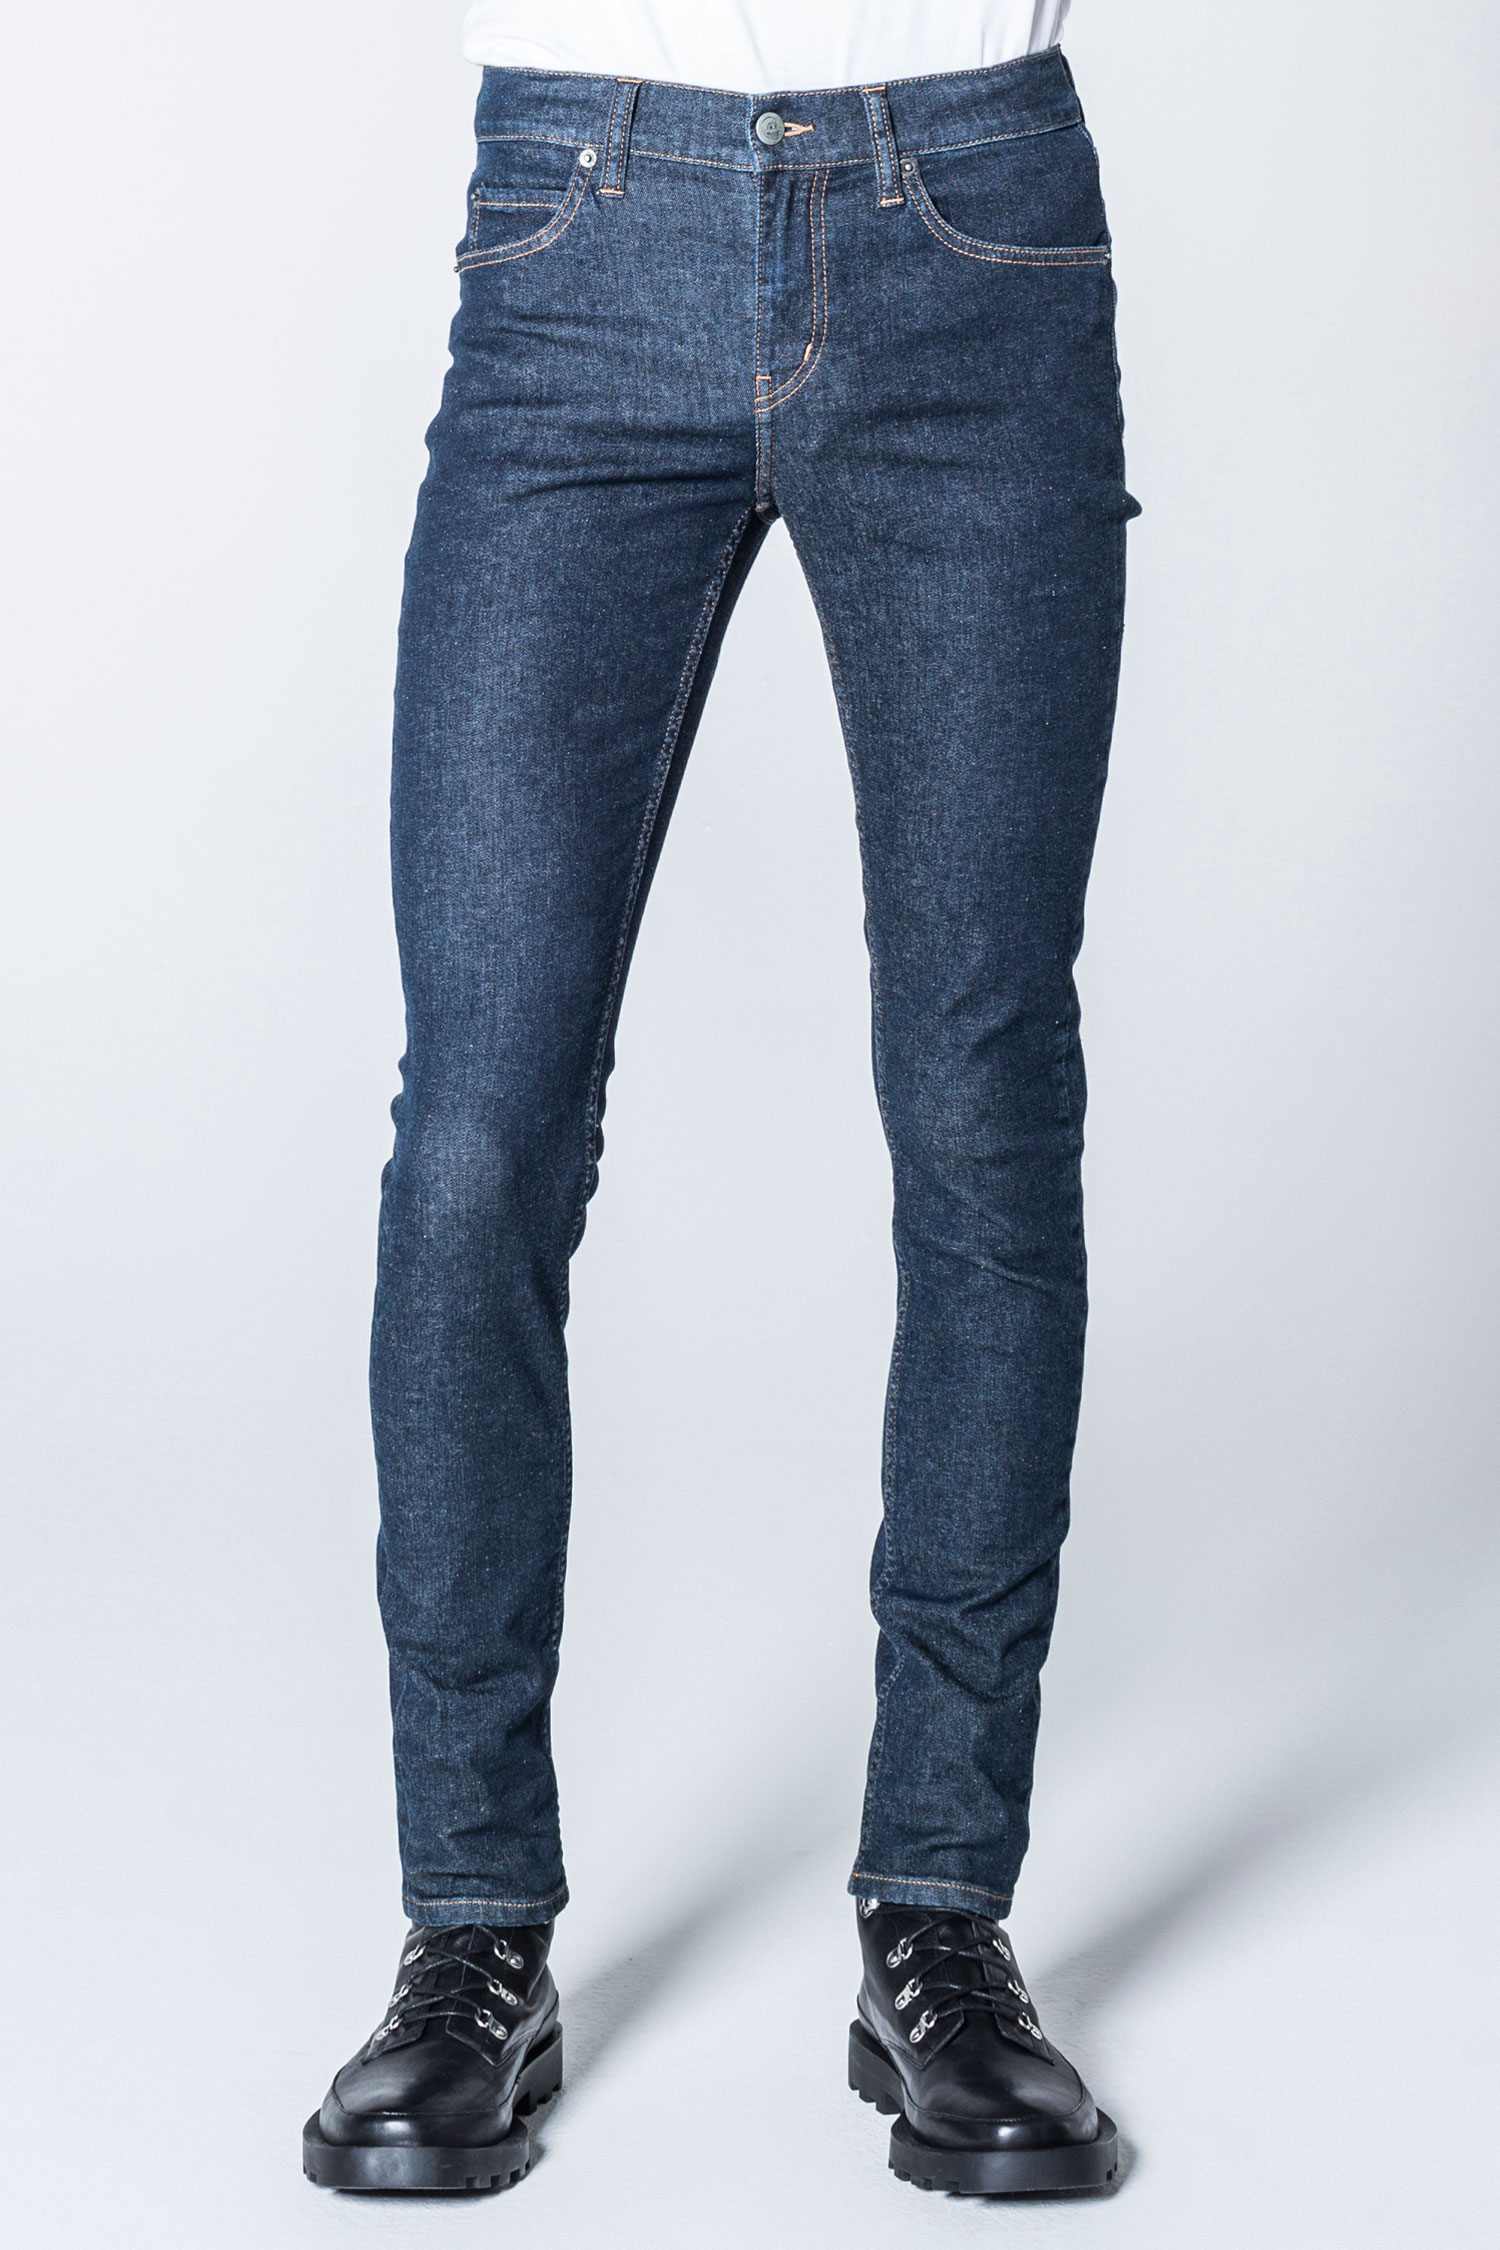jeans: (301, 40, 1117, 2012)
